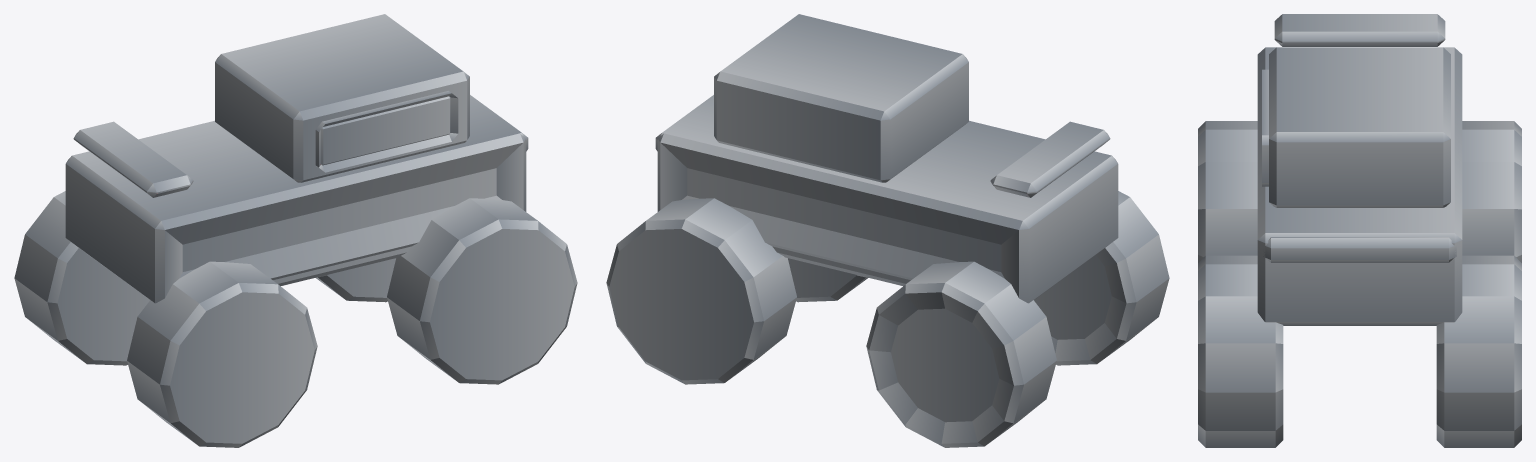
The model's file is dt_monster_truck.fbx.
3 renders of one model, left to right at view 1: azimuth 30°, elevation 25°; view 2: azimuth 150°, elevation 25°; view 3: azimuth 270°, elevation 25°, orthographic. The views are drawn at different scales.
Visible parts, largest first — view 1: dt_monster_truck; view 2: dt_monster_truck; view 3: dt_monster_truck.
Part boxes in pixels (x1,y1,x2,y2): dt_monster_truck: (14,14,577,447); dt_monster_truck: (606,14,1169,447); dt_monster_truck: (1198,14,1521,447).
Size of the model in its own units: 1800 by 1190 by 1140.
